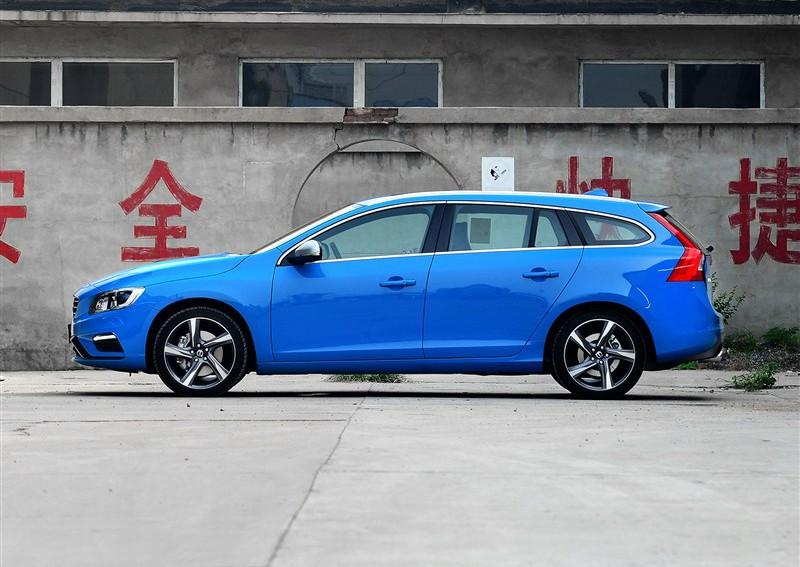Wagon: (59, 185, 730, 404)
